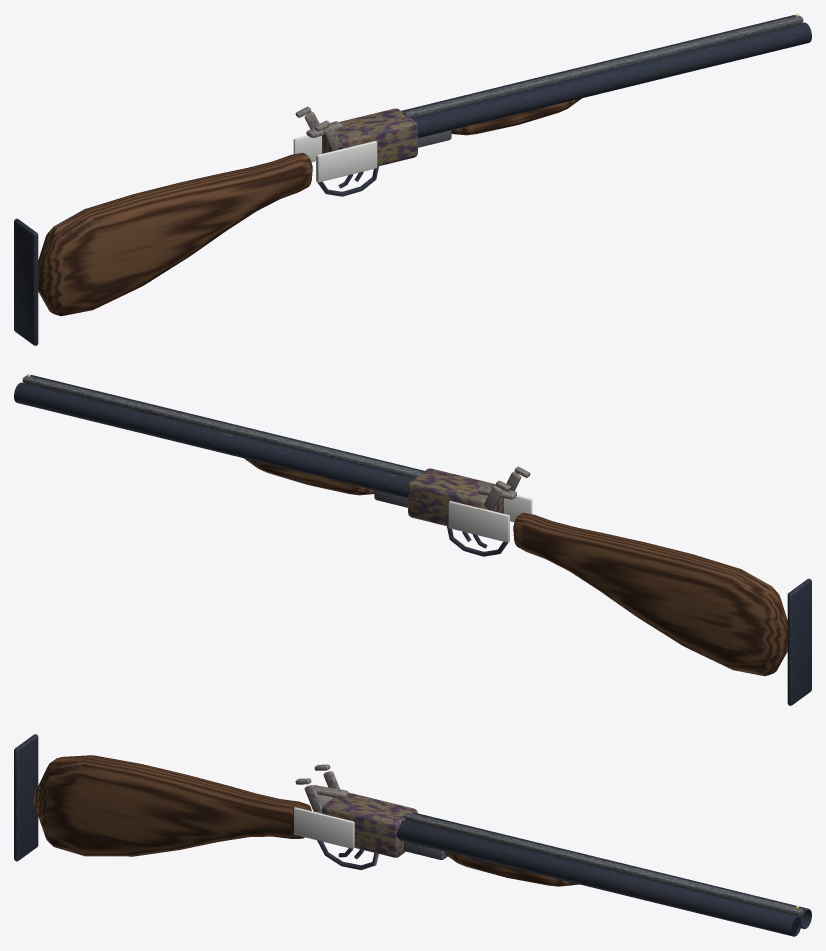
The model's file is shotgun.glb.
3 views of the same model, one above another, from view 1: azimuth 30°, elevation 25°; view 2: azimuth 150°, elevation 25°; view 3: azimuth 330°, elevation 25° (orthographic).
Visible parts, largest first — view 1: stock, barrel-1, rib, action, stock_plate, lock-1, fore_end, barrel1; view 2: stock, barrel1, rib, action, stock_plate, lock1, fore_end, barrel-1; view 3: stock, barrel-1, rib, action, stock_plate, lock-1, fore_end, barrel1, lump, trigger_guard.
Part boxes in pixels (x1,y1,x2,y2): stock: (38,152,312,316); barrel-1: (411,22,811,138); rib: (403,15,803,118); action: (322,108,417,166); stock_plate: (14,218,38,345); lock-1: (316,141,377,182); fore_end: (451,98,581,135); barrel1: (401,15,796,116); stock: (513,512,787,676); barrel1: (14,382,414,498); rib: (22,375,422,478); action: (408,468,503,526); stock_plate: (787,578,811,705); lock1: (448,501,509,542); fore_end: (244,458,374,495); barrel-1: (29,375,424,476); stock: (32,755,311,856); barrel-1: (396,820,801,936); rib: (403,812,803,916); action: (322,792,417,857); stock_plate: (14,734,38,861); lock-1: (293,807,354,848); fore_end: (445,851,579,886); barrel1: (412,812,811,928); lump: (404,841,447,859); trigger_guard: (317,840,378,870).
Size of the model in its own units: 0.901 by 0.1696 by 0.049.
1 material, 1 textured.
